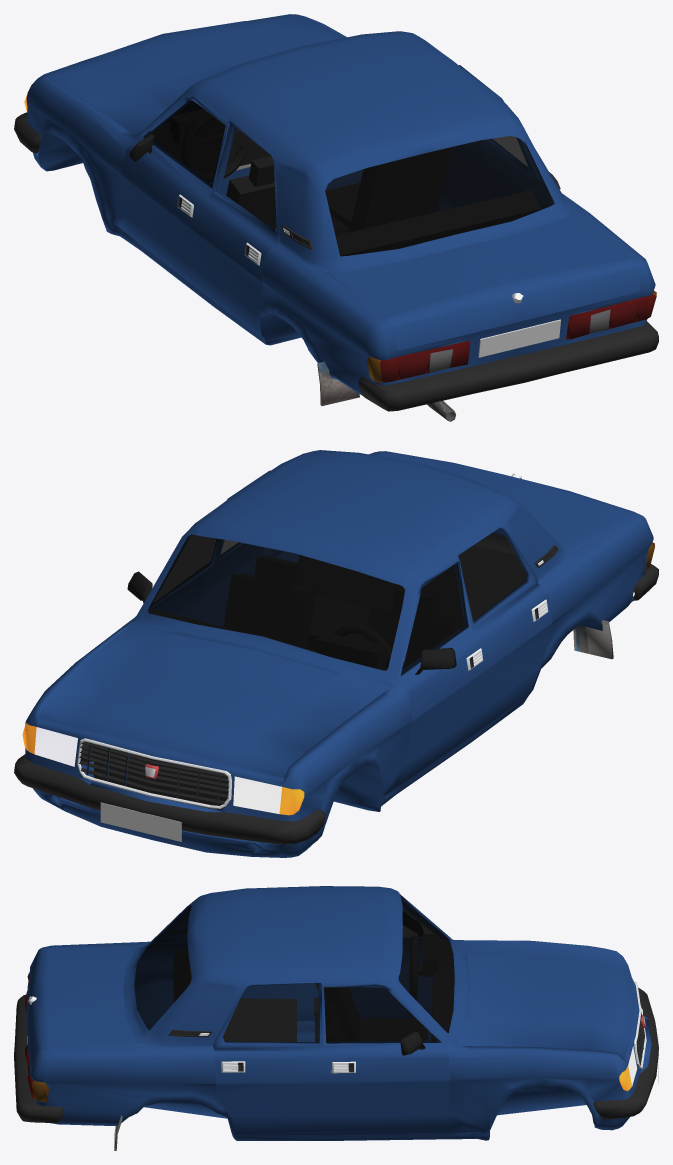
Rendered from volga.glb.
The picture shows the model from 3 angles, top to bottom: view 1: azimuth 30°, elevation 25°; view 2: azimuth 150°, elevation 25°; view 3: azimuth 270°, elevation 25°; orthographic projection. The views are drawn at different scales.
Visible parts, largest first — view 1: Кузов, багажник, заднее стекло, капот, дверь передняя, дверь задняя, Задний бампер, INT_SeatFront_L.001, INT_SeatRear, Задний фонарь, боковые задние, боковые передние (+7 smaller); view 2: Кузов, капот, лобокое, дверь передняя, дверь задняя, INT_SeatRear, Передний бампер, INT_SeatFront_L.001, багажник, боковые передние, Решетка радиатора, боковые задние (+9 smaller); view 3: Кузов, капот, дверь передняя, дверь задняя, багажник, боковые передние, боковые задние, лобокое, заднее стекло, INT_SeatRear, INT_SeatFront_L, Задний бампер (+8 smaller).
Part boxes in pixels (x1=…): Кузов: x1=26, y1=14, x2=655, y2=395; багажник: x1=328, y1=212, x2=640, y2=350; заднее стекло: x1=325, y1=136, x2=553, y2=256; капот: x1=44, y1=14, x2=341, y2=135; дверь передняя: x1=121, y1=95, x2=487, y2=293; дверь задняя: x1=196, y1=65, x2=553, y2=332; Задний бампер: x1=358, y1=321, x2=658, y2=411; INT_SeatFront_L.001: x1=325, y1=147, x2=451, y2=231; INT_SeatRear: x1=336, y1=190, x2=540, y2=256; Задний фонарь: x1=367, y1=291, x2=656, y2=382; боковые задние: x1=215, y1=124, x2=276, y2=232; боковые передние: x1=143, y1=100, x2=225, y2=188; Кузов: x1=25, y1=450, x2=653, y2=857; капот: x1=38, y1=623, x2=392, y2=781; лобокое: x1=148, y1=534, x2=404, y2=670; дверь передняя: x1=125, y1=528, x2=489, y2=781; дверь задняя: x1=200, y1=470, x2=552, y2=728; INT_SeatRear: x1=297, y1=545, x2=525, y2=650; Передний бампер: x1=14, y1=754, x2=325, y2=844; INT_SeatFront_L.001: x1=224, y1=555, x2=315, y2=647; багажник: x1=378, y1=451, x2=633, y2=550; боковые передние: x1=152, y1=535, x2=468, y2=675; Решетка радиатора: x1=77, y1=738, x2=231, y2=809; боковые задние: x1=459, y1=529, x2=528, y2=622; Кузов: x1=30, y1=886, x2=651, y2=1140; капот: x1=455, y1=940, x2=637, y2=1060; дверь передняя: x1=321, y1=899, x2=450, y2=1131; дверь задняя: x1=212, y1=981, x2=323, y2=1132; багажник: x1=26, y1=945, x2=143, y2=1067; боковые передние: x1=324, y1=909, x2=441, y2=1043; боковые задние: x1=223, y1=983, x2=319, y2=1042; лобокое: x1=398, y1=895, x2=454, y2=1032; заднее стекло: x1=134, y1=905, x2=191, y2=1030; INT_SeatRear: x1=174, y1=947, x2=296, y2=1041; INT_SeatFront_L: x1=315, y1=983, x2=427, y2=1041; Задний бампер: x1=14, y1=994, x2=63, y2=1123.
Bounding box in the file's own units: 0.4884 × 0.2914 × 1.
Materials: 29 (25 with a texture image).
